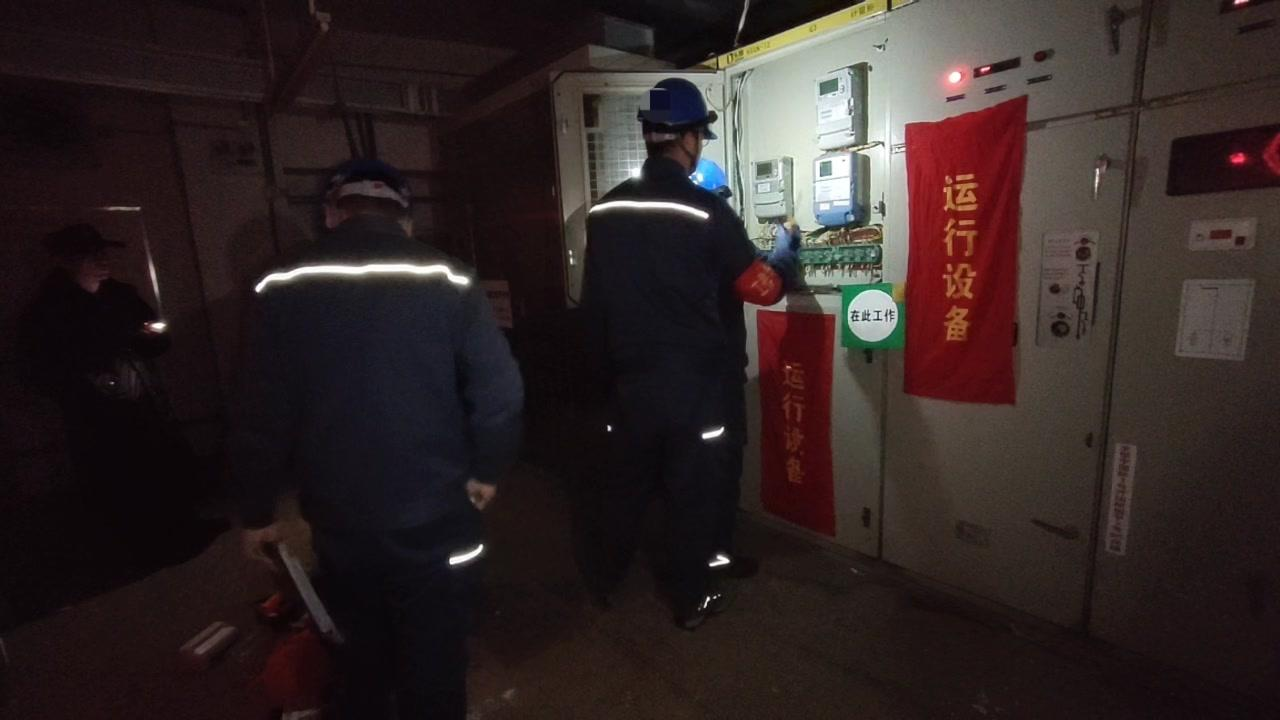halt: (317, 162, 419, 241), (636, 79, 718, 171), (690, 162, 733, 203)
unhalt: (54, 229, 128, 294)
